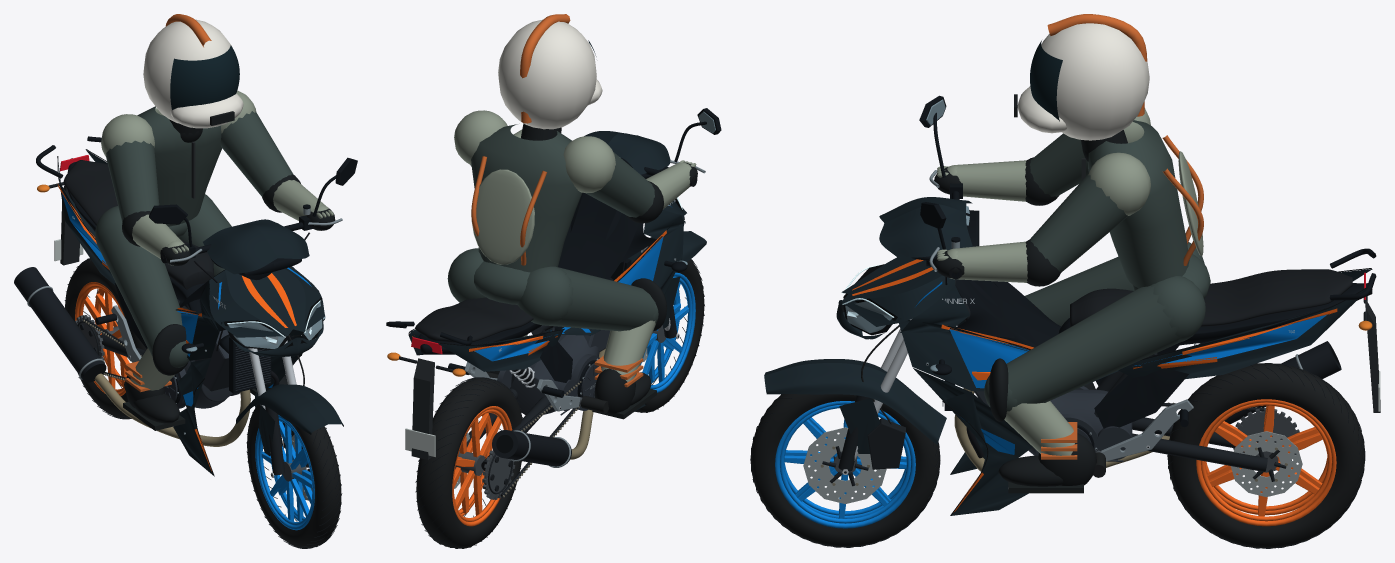
File: winner.glb
3 renders of one model, left to right at view 1: azimuth 30°, elevation 25°; view 2: azimuth 150°, elevation 25°; view 3: azimuth 270°, elevation 25°, orthographic. The views are drawn at different scales.
Parts seen in each view (by area): view 1: BikeBody, Rider, WheelFront, WheelRear; view 2: Rider, BikeBody, WheelRear, WheelFront; view 3: BikeBody, Rider, WheelRear, WheelFront.
Part boxes in pixels (x1,y1,x2,y2): BikeBody: (14, 136, 357, 477); Rider: (95, 14, 335, 430); WheelFront: (246, 404, 342, 548); WheelRear: (64, 258, 146, 419); Rider: (447, 14, 697, 419); BikeBody: (386, 108, 721, 499); WheelRear: (415, 377, 522, 548); WheelFront: (635, 259, 704, 412); BikeBody: (764, 95, 1380, 515); Rider: (934, 14, 1210, 493); WheelRear: (1167, 363, 1365, 548); WheelFront: (750, 394, 940, 547).
Bounding box in the file's own units: 0.8673 × 1.78 × 1.91.
